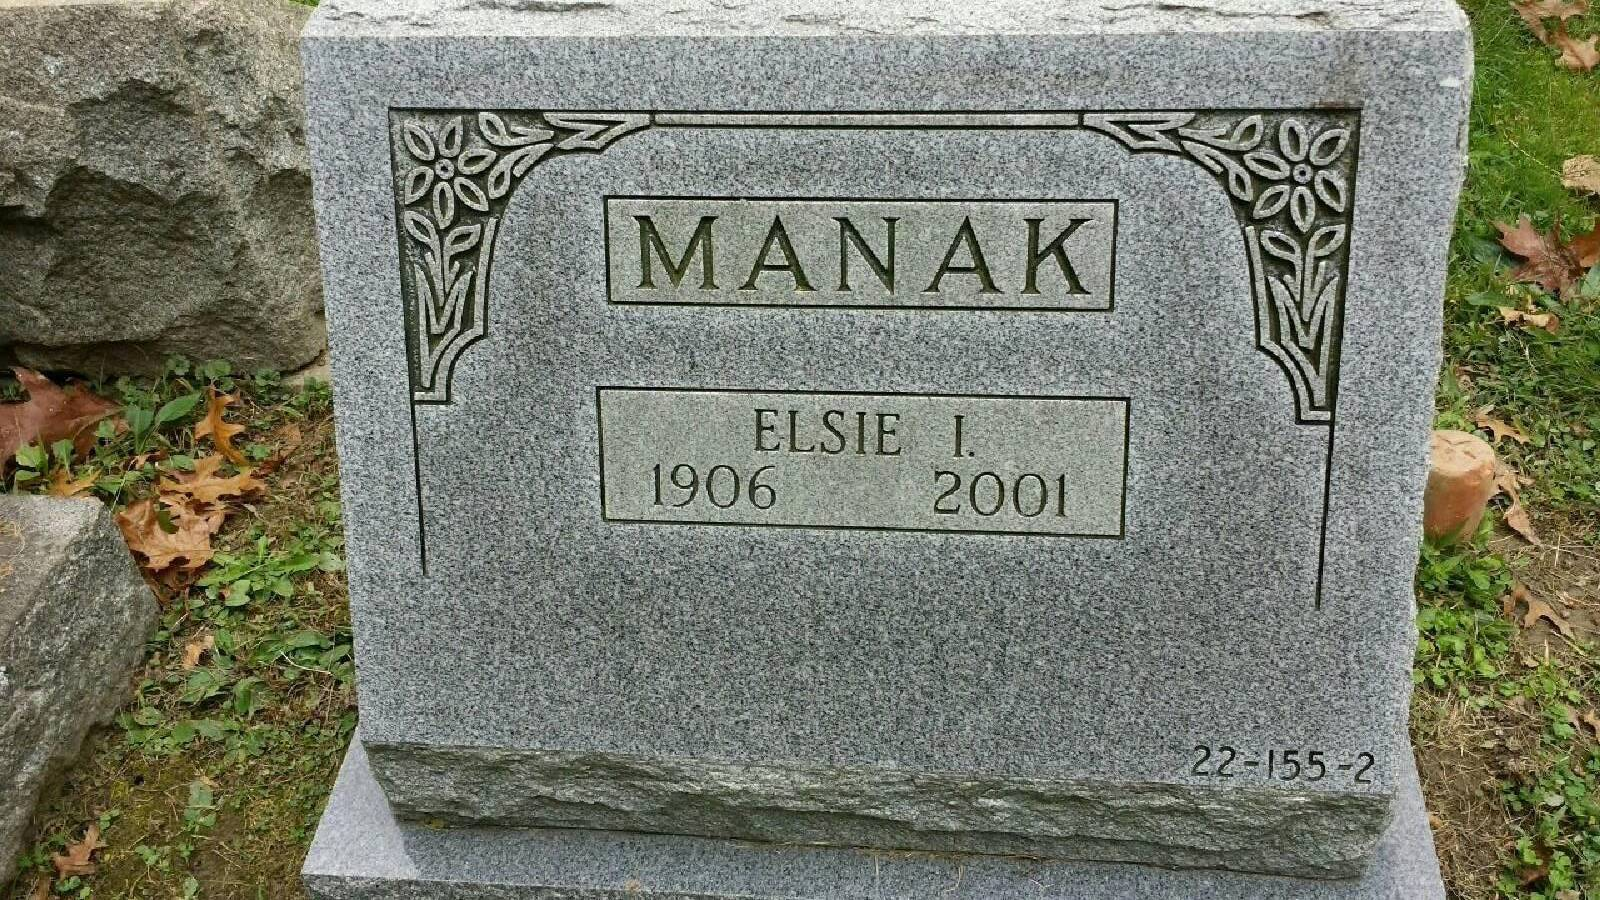upright: (287, 1, 1473, 889)
